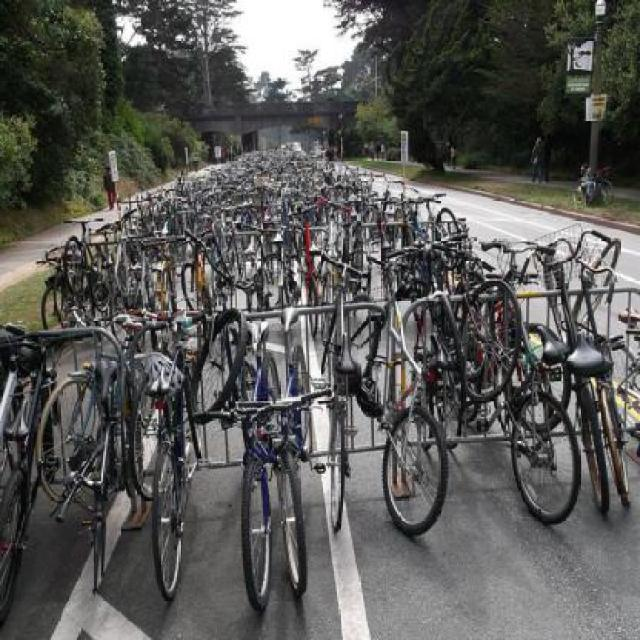Person: (530, 134, 544, 181), (102, 164, 116, 208), (540, 130, 551, 182), (450, 140, 455, 168), (368, 139, 375, 158), (192, 153, 198, 170), (379, 140, 384, 158), (374, 139, 378, 156), (447, 149, 448, 165)
